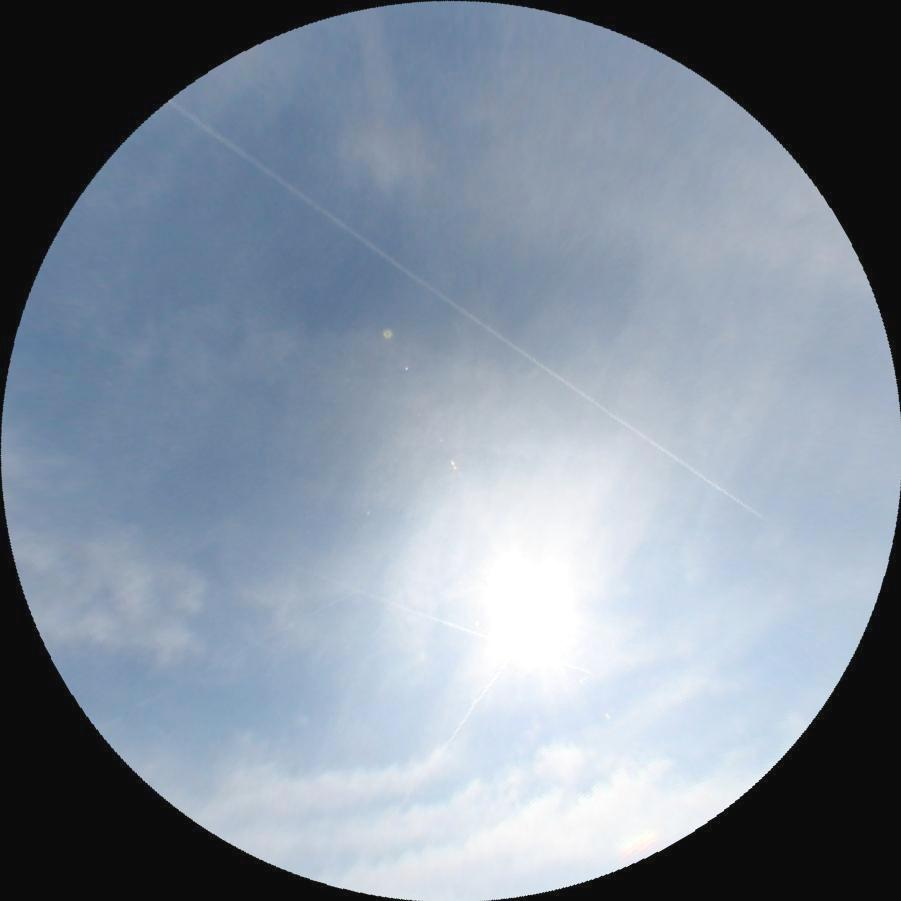contrail young: (167, 99, 767, 525), (217, 540, 592, 674), (395, 652, 511, 815)
parasite: (96, 591, 349, 732)
sun: (467, 552, 586, 671)
